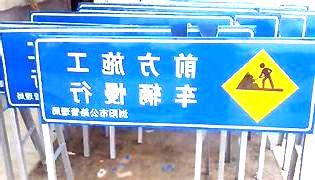sign: (36, 39, 314, 133)
